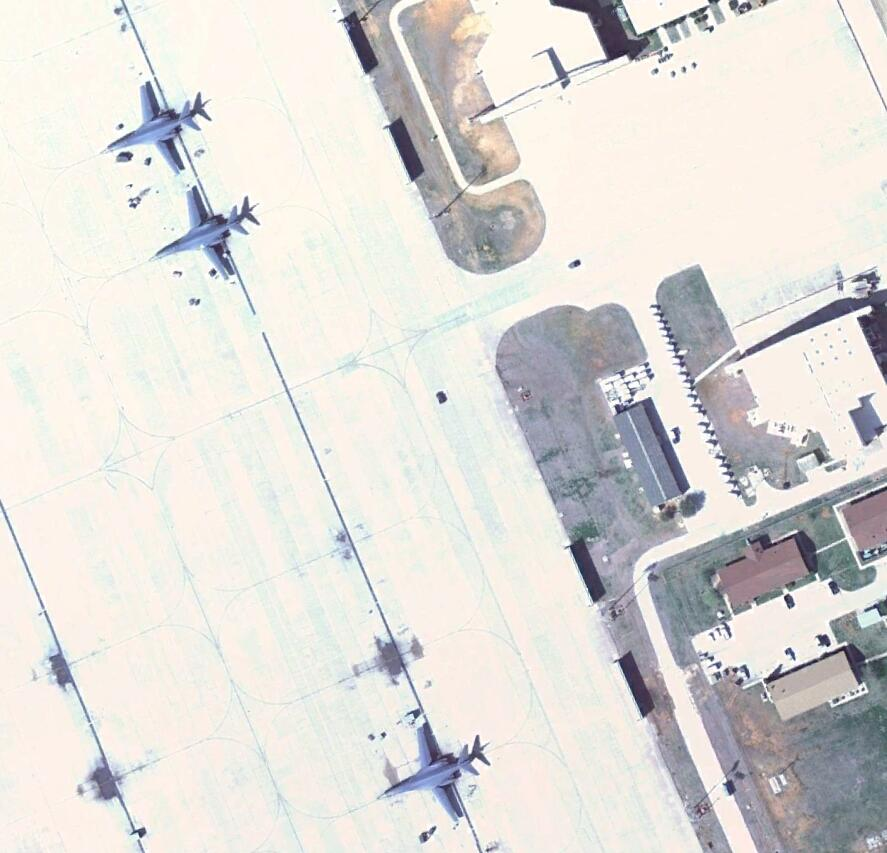A10: (370, 719, 500, 825), (148, 183, 267, 283), (96, 78, 210, 176)
